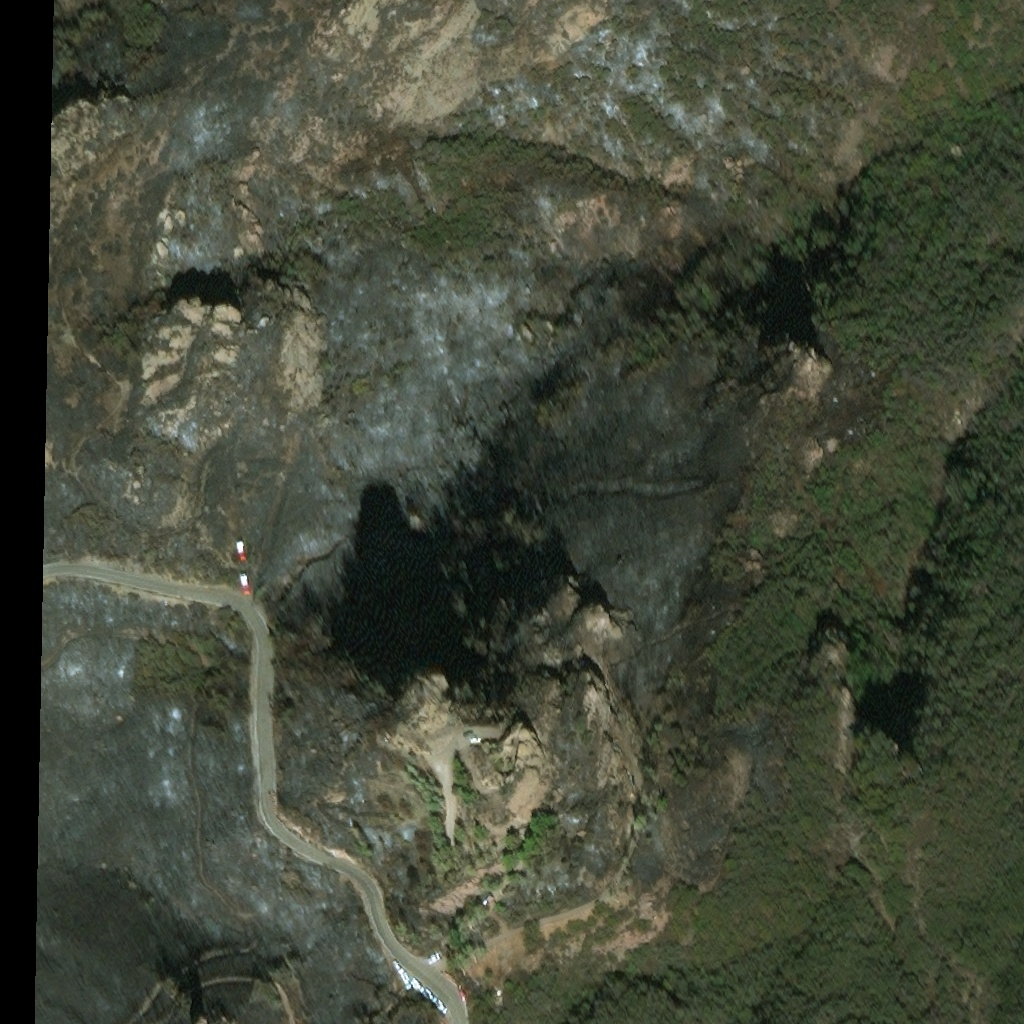4 un-classified: (494, 990, 504, 1016), (481, 742, 498, 756)
